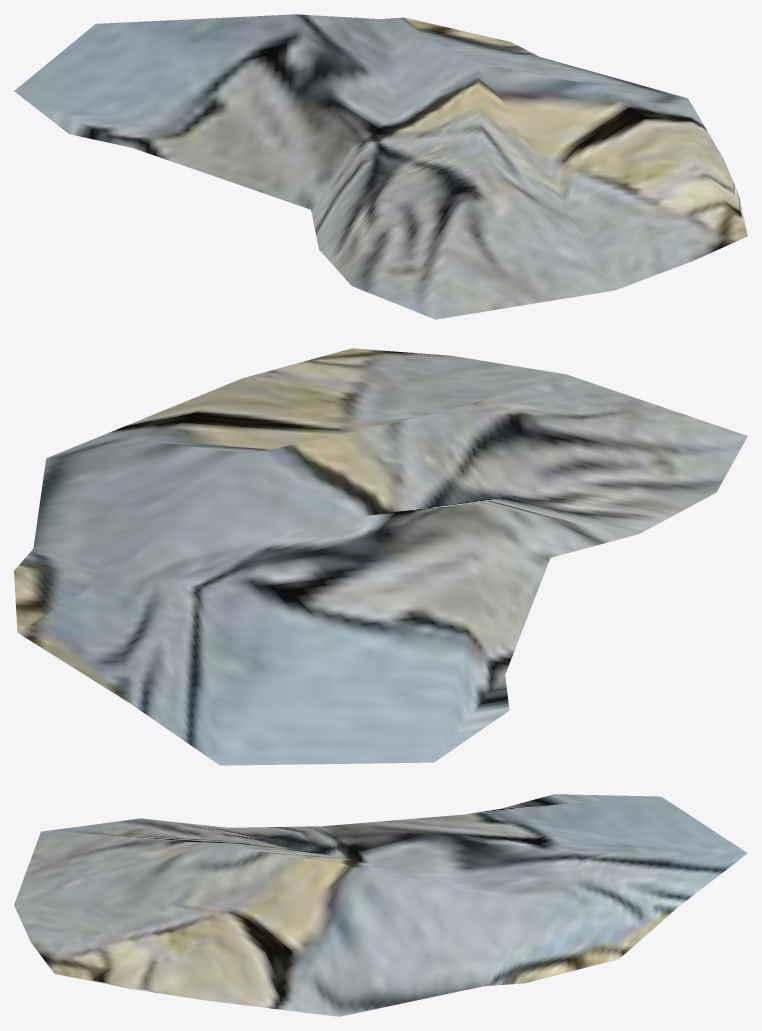
The model's file is laundry_2.FBX.
The picture shows the model from 3 angles, top to bottom: view 1: azimuth 30°, elevation 25°; view 2: azimuth 150°, elevation 25°; view 3: azimuth 270°, elevation 25°; orthographic projection. The views are drawn at different scales.
Parts seen in each view (by area): view 1: laundry_2; view 2: laundry_2; view 3: laundry_2.
Boxes of the visible parts, x1,y1,x2,y2 form: laundry_2: (14, 14, 747, 319); laundry_2: (14, 348, 747, 765); laundry_2: (14, 794, 747, 1016).
Size of the model in its own units: 17.69 by 2.34 by 24.64.
